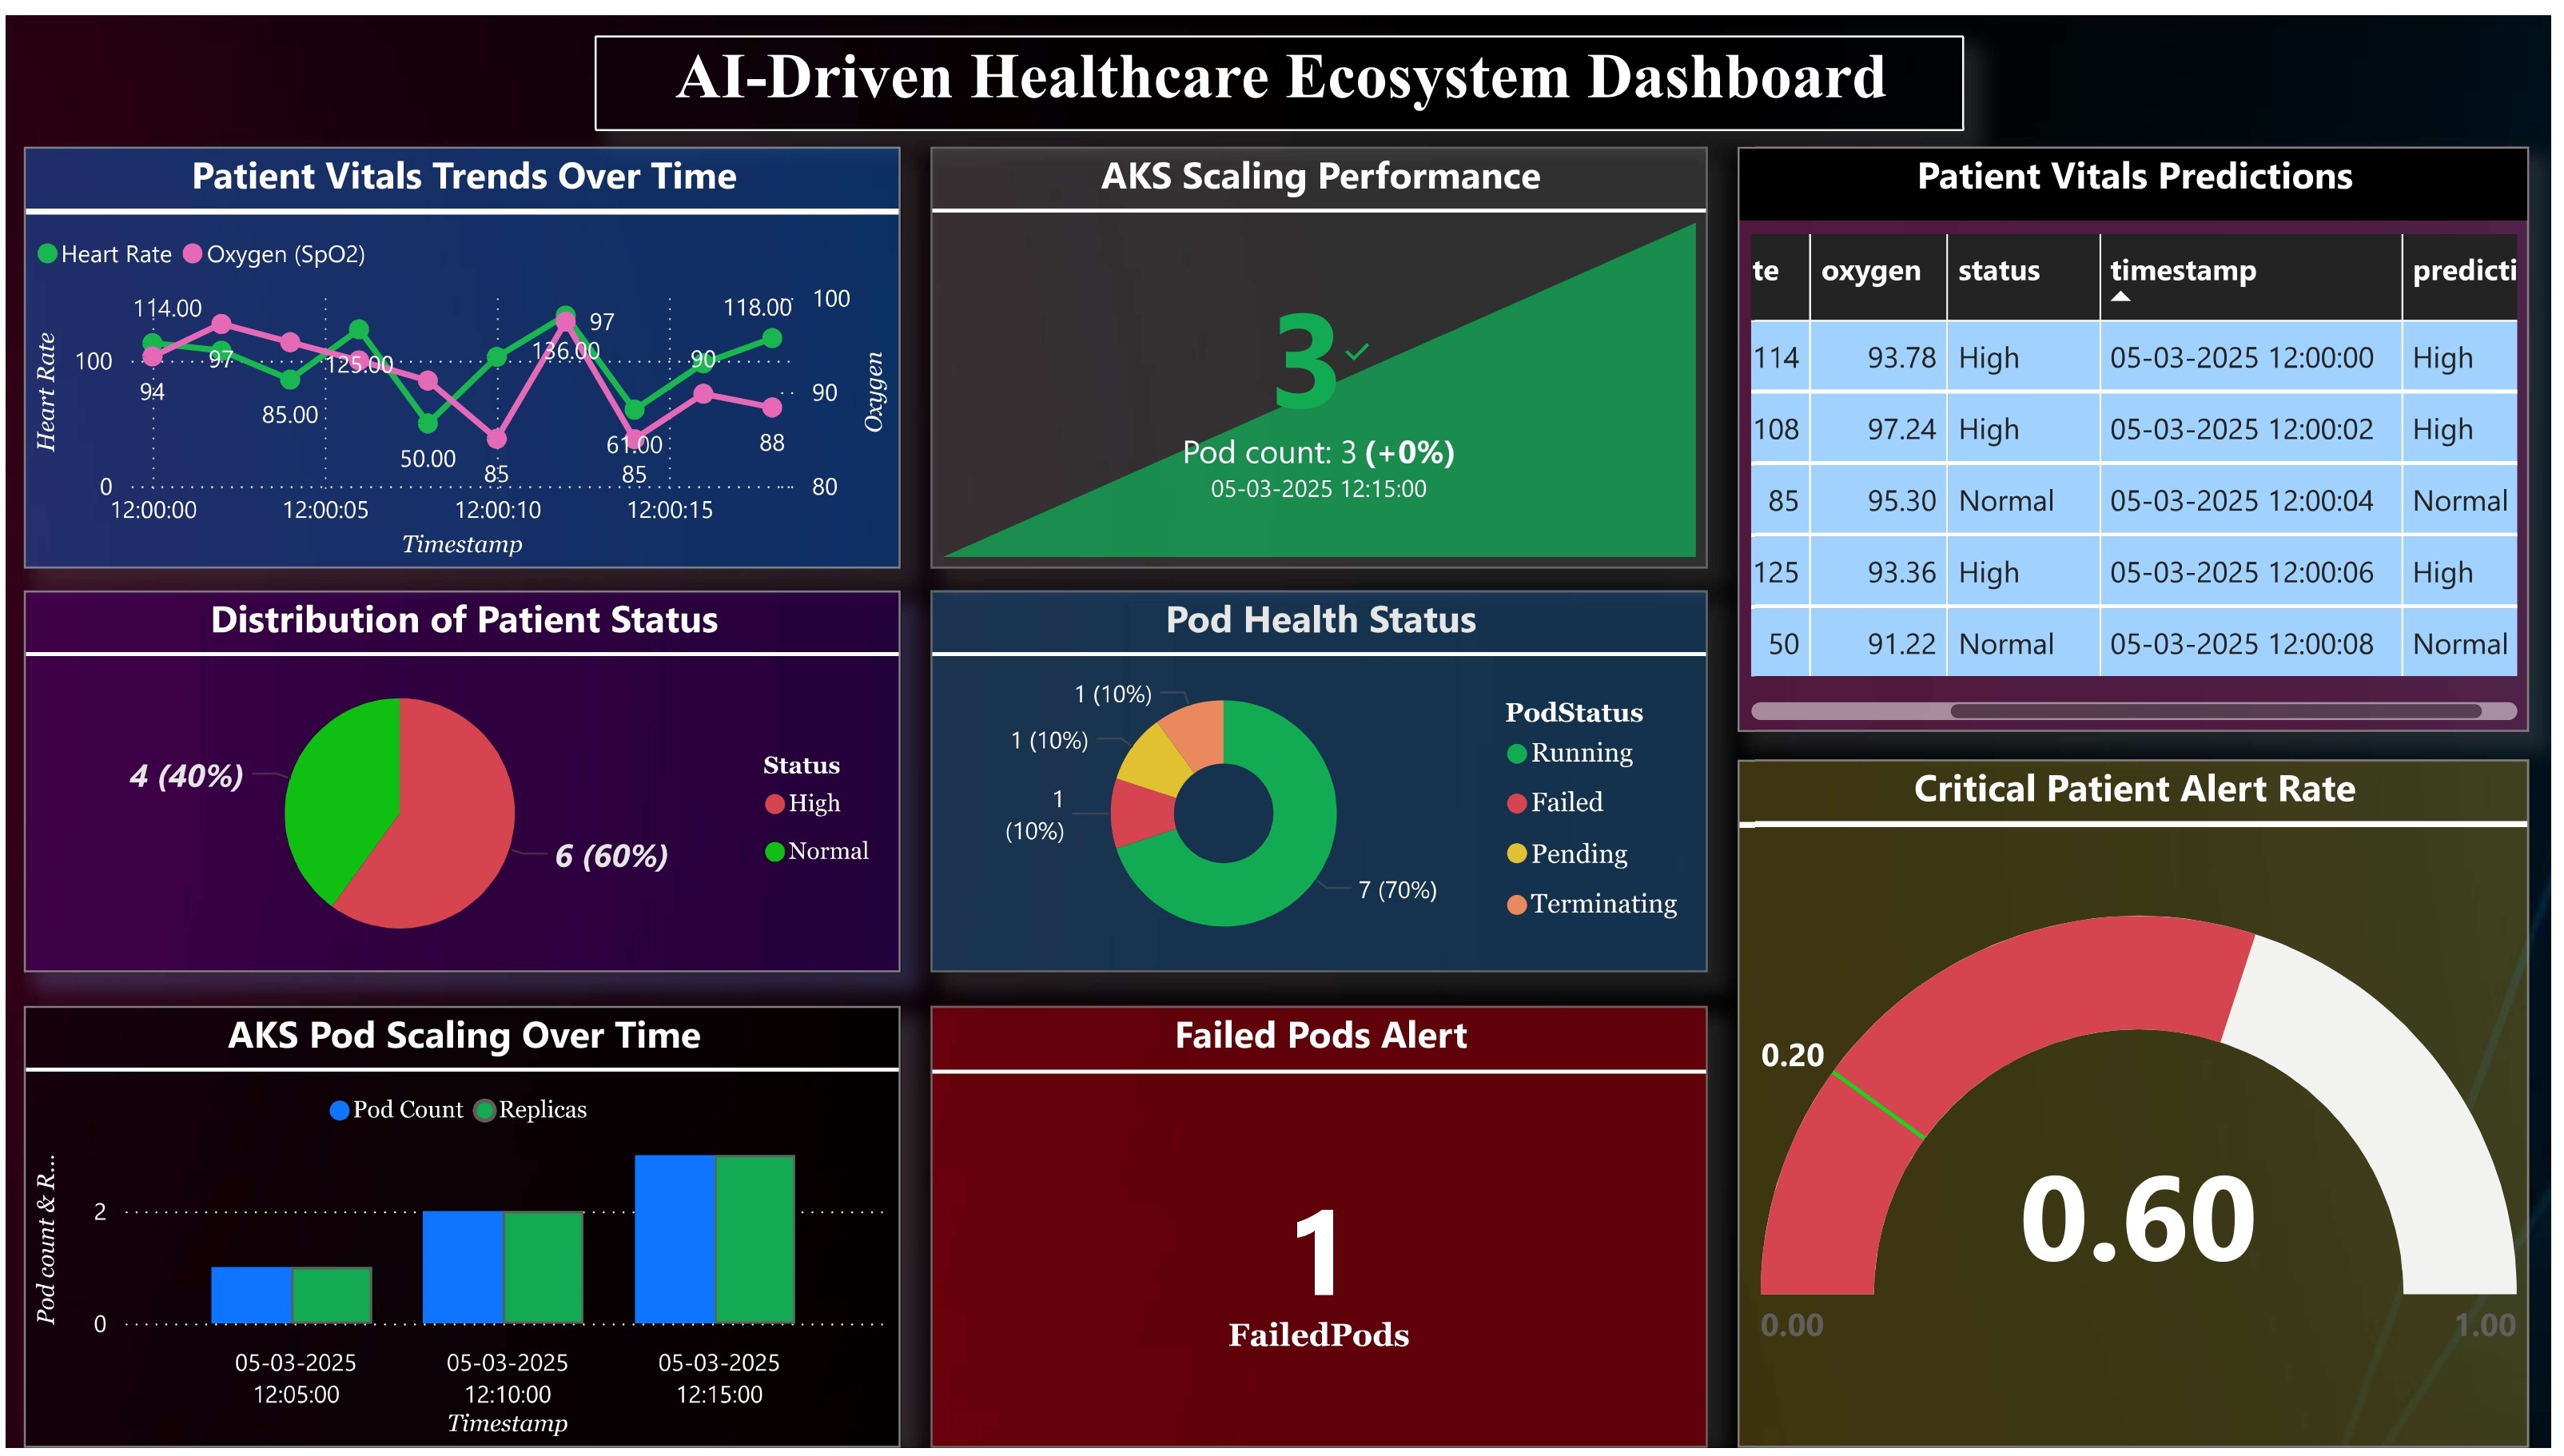

What the dashboard file says about the page in this screenshot:
{"tool":"powerbi","page":{"name":"Healthcare Dashboard","canvas":[1280,720],"ordinal":0},"visuals":[{"type":"textbox","title":"AI-Driven Healthcare Ecosystem Dashboard","box":[296.2,10,688.8,47.5],"z":0},{"type":"lineChart","title":"Patient Vitals Trends Over Time","fields":{"Y":["Avg(vitals_data.heart_rate)"],"Category":["vitals_data.timestamp"],"Y2":["Sum(vitals_data.oxygen)"]},"box":[8.8,66.2,441.2,211.2],"z":1000},{"type":"pieChart","title":"Distribution of Patient Status","fields":{"Category":["vitals_data.status"],"Y":["CountNonNull(vitals_data.status)"]},"box":[8.8,288.8,441.2,192.5],"z":2000},{"type":"tableEx","title":"Patient Vitals Predictions","fields":{"Values":["predictions.patient_id","predictions.heart_rate","predictions.oxygen","predictions.status","predictions.timestamp","predictions.prediction"]},"box":[871.2,66.2,397.5,293.8],"z":3000},{"type":"gauge","title":"Critical Patient Alert Rate","fields":{"Y":["predictions.HighPrediction"]},"box":[871.2,373.8,397.5,346.2],"z":4000},{"type":"clusteredColumnChart","title":"AKS Pod Scaling Over Time","fields":{"Y":["Sum(aks_scaling.pod_count)","Sum(aks_scaling.replicas)"],"Category":["aks_scaling.timestamp"]},"box":[8.8,497.5,441.2,222.5],"z":5000},{"type":"kpi","title":"AKS Scaling Performance","fields":{"TrendLine":["aks_scaling.timestamp"],"Indicator":["Sum(aks_scaling.pod_count)"],"Goal":["Sum(aks_scaling.pod_count)"]},"box":[465,66.2,391.2,211.2],"z":6000},{"type":"donutChart","title":"Pod Health Status","fields":{"Category":["pod_health.PodStatus"],"Y":["CountNonNull(pod_health.PodStatus)"]},"box":[465,288.8,391.2,192.5],"z":7000},{"type":"card","title":"Failed Pods Alert","fields":{"Values":["pod_health.FailedPods"]},"box":[465,498,391,222],"z":8000}]}

Visuals, with their boxes in screenshot pixels (x1, y1, x2, y2), scaled from the page's 1280x720 canvas onto the 2564x1456 screenshot:
"AI-Driven Healthcare Ecosystem Dashboard" textbox: 593/20/1973/117
"Patient Vitals Trends Over Time" lineChart: 18/134/902/561
"Distribution of Patient Status" pieChart: 18/584/902/973
"Patient Vitals Predictions" tableEx: 1745/134/2542/728
"Critical Patient Alert Rate" gauge: 1745/756/2542/1455
"AKS Pod Scaling Over Time" clusteredColumnChart: 18/1006/902/1455
"AKS Scaling Performance" kpi: 931/134/1715/561
"Pod Health Status" donutChart: 931/584/1715/973
"Failed Pods Alert" card: 931/1007/1714/1455
